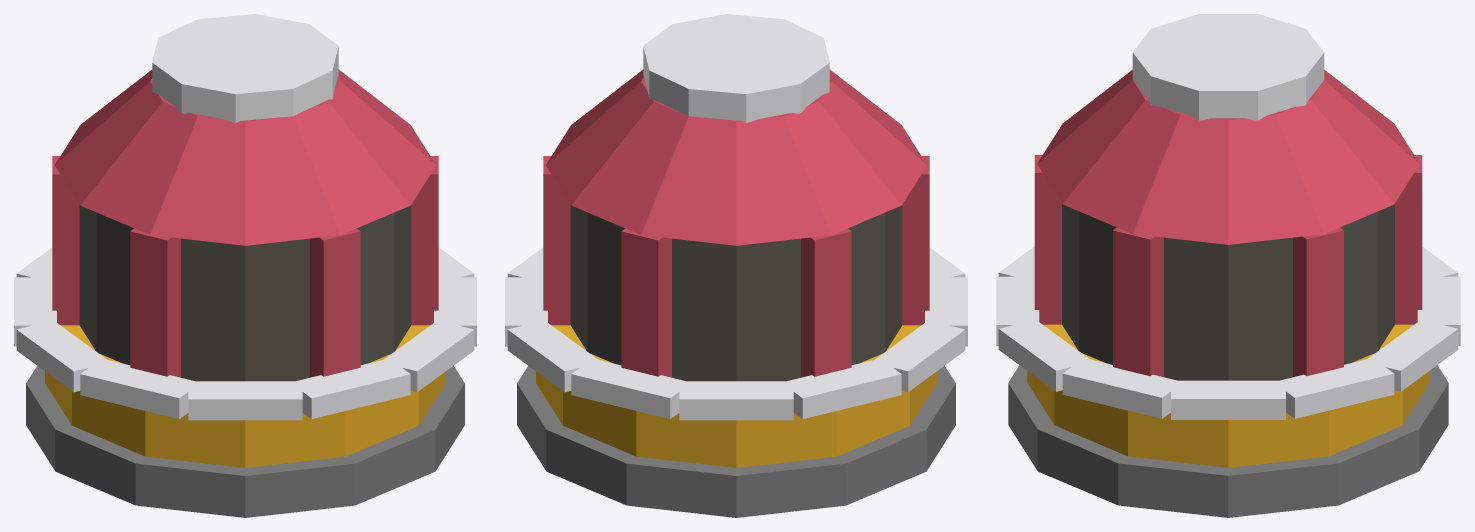
File: bumper.glb
The picture shows the model from 3 angles, left to right: view 1: azimuth 30°, elevation 25°; view 2: azimuth 150°, elevation 25°; view 3: azimuth 270°, elevation 25°; orthographic projection.
Visible parts, largest first — view 1: bumper; view 2: bumper; view 3: bumper.
Boxes of the visible parts, x1,y1,x2,y2 form: bumper: (14, 14, 476, 517); bumper: (505, 14, 967, 517); bumper: (996, 14, 1460, 517).
Bounding box in the file's own units: 1 × 0.885 × 1.
